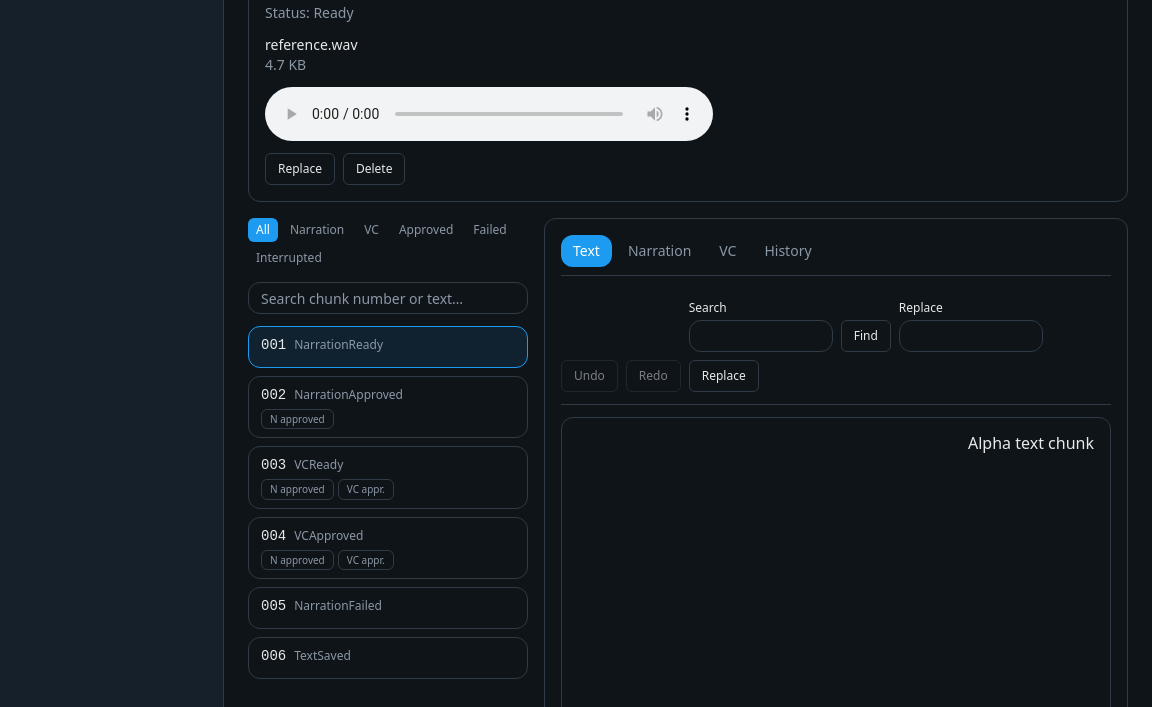
E8.1-C Part Workspace › 9. queue VC disabled without narration approval
(page scrolled)
Click the button with test id "chunk-row-1" at (339,344), box left=248, top=326, right=528, bottom=368
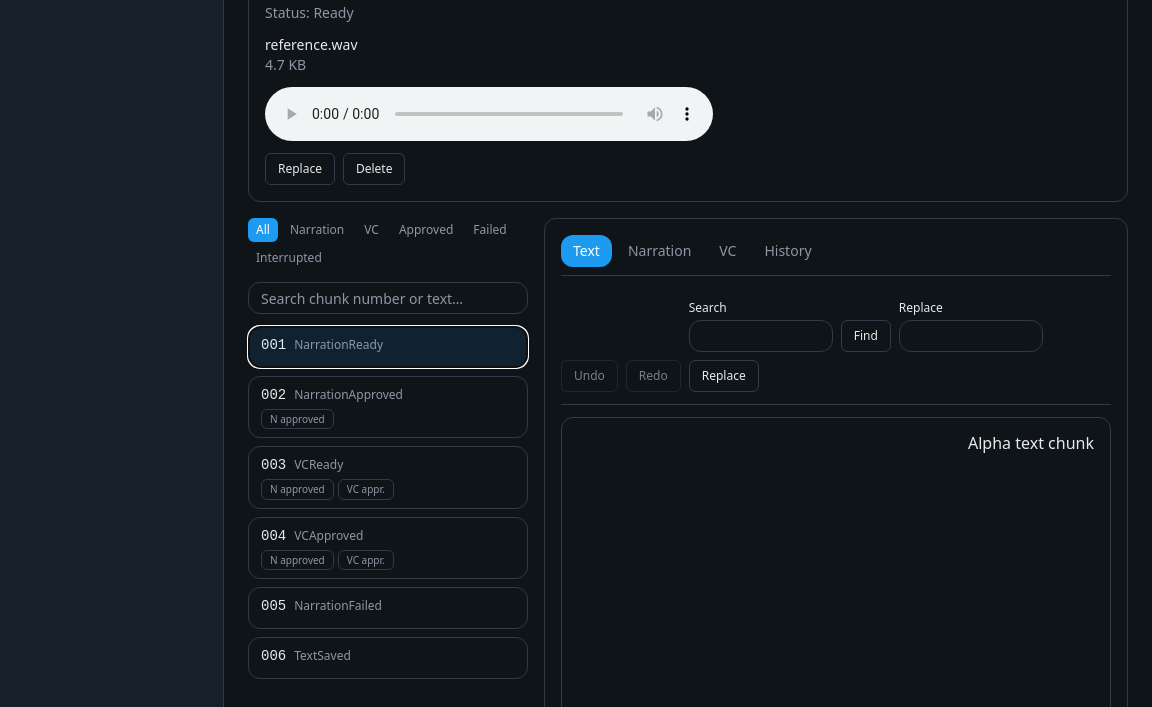
Click the tab "VC" at (728,251), box left=707, top=235, right=748, bottom=267
(page scrolled)
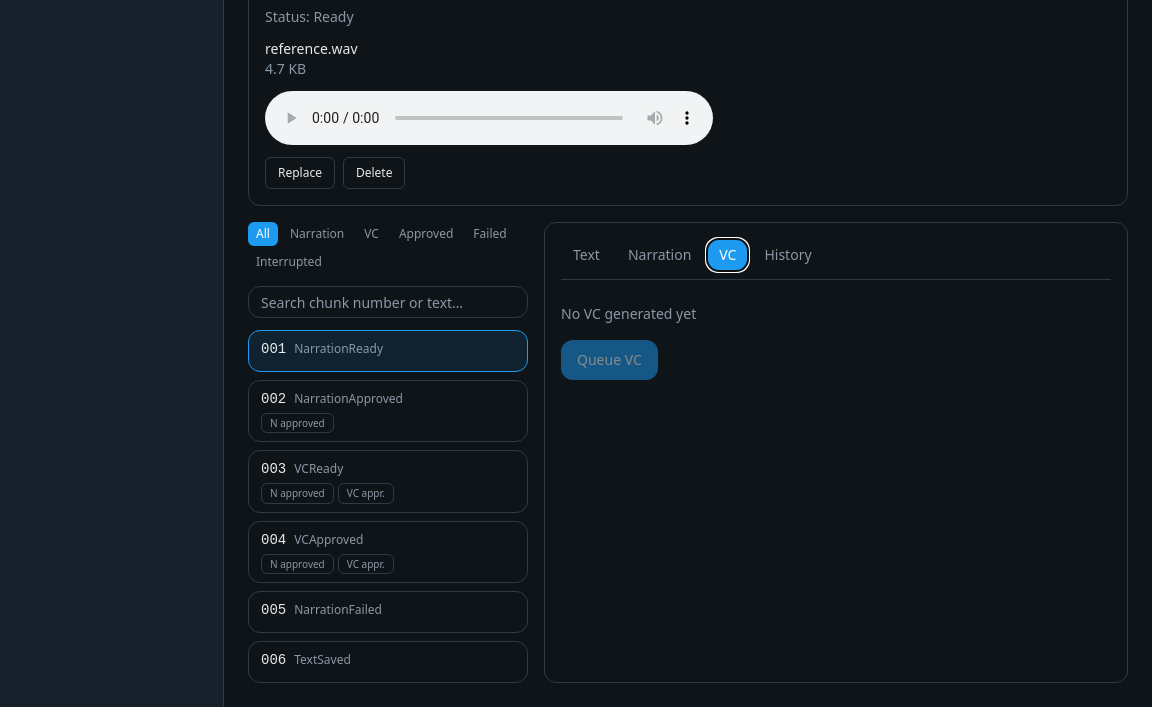
Now the button "Queue VC" is disabled, box left=561, top=340, right=658, bottom=380
